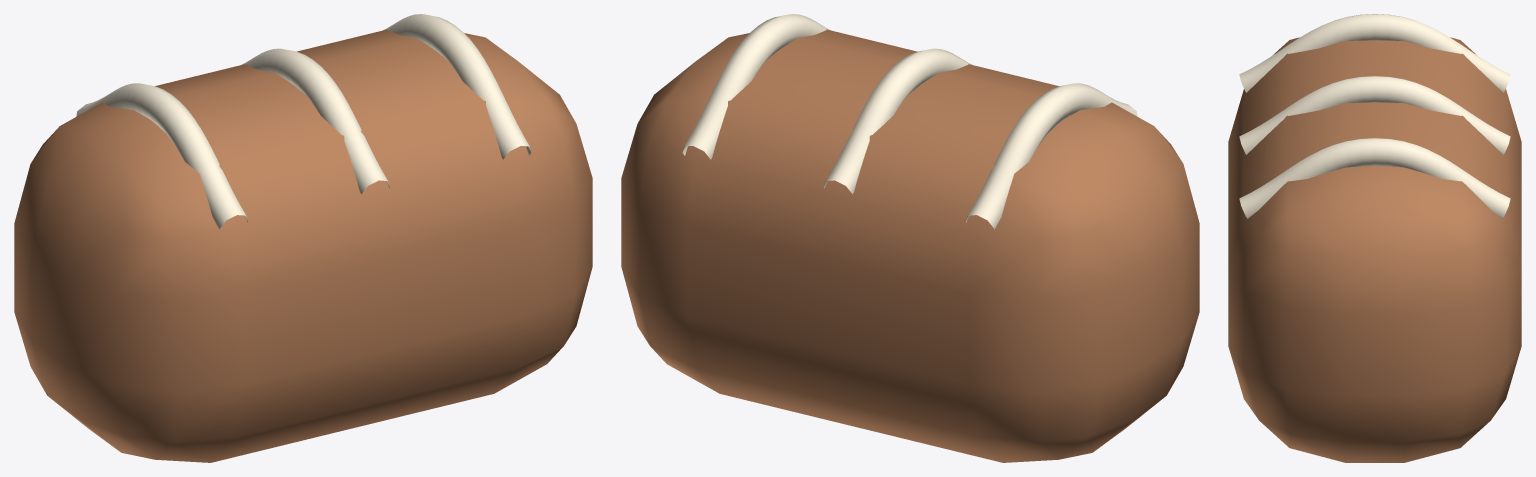
Rendered from word-bread.glb.
3 renders of one model, left to right at view 1: azimuth 30°, elevation 25°; view 2: azimuth 150°, elevation 25°; view 3: azimuth 270°, elevation 25°, orthographic. The views are drawn at different scales.
Parts seen in each view (by area): view 1: bread loaf, bread score, bread score.002, bread score.001; view 2: bread loaf, bread score, bread score.002, bread score.001; view 3: bread loaf, bread score.002, bread score, bread score.001.
Part boxes in pixels (x1=…): bread loaf: x1=14, y1=29, x2=592, y2=462; bread score: x1=76, y1=83, x2=247, y2=230; bread score.002: x1=383, y1=14, x2=531, y2=159; bread score.001: x1=241, y1=48, x2=389, y2=194; bread loaf: x1=621, y1=29, x2=1199, y2=462; bread score: x1=966, y1=83, x2=1137, y2=230; bread score.002: x1=682, y1=14, x2=830, y2=159; bread score.001: x1=824, y1=48, x2=972, y2=194; bread loaf: x1=1228, y1=37, x2=1521, y2=462; bread score.002: x1=1239, y1=138, x2=1510, y2=218; bread score: x1=1239, y1=14, x2=1510, y2=92; bread score.001: x1=1239, y1=76, x2=1510, y2=154.
Bounding box in the file's own units: 0.9 × 0.59 × 0.5.
